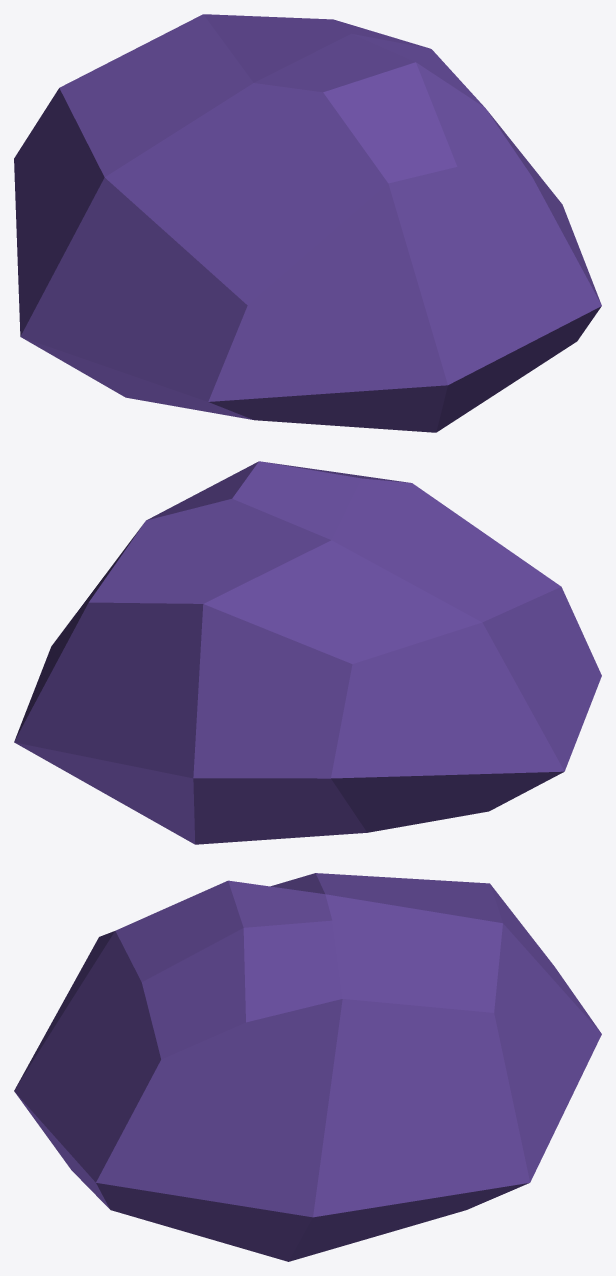
Rendered from rock3.fbx.
The picture shows the model from 3 angles, top to bottom: view 1: azimuth 30°, elevation 25°; view 2: azimuth 150°, elevation 25°; view 3: azimuth 270°, elevation 25°; orthographic projection. The views are drawn at different scales.
Parts seen in each view (by area): view 1: Cube; view 2: Cube; view 3: Cube.
Boxes of the visible parts, x1,y1,x2,y2 form: Cube: (14,14,601,432); Cube: (14,461,601,844); Cube: (14,873,601,1261).
Size of the model in its own units: 168 by 95.01 by 165.
